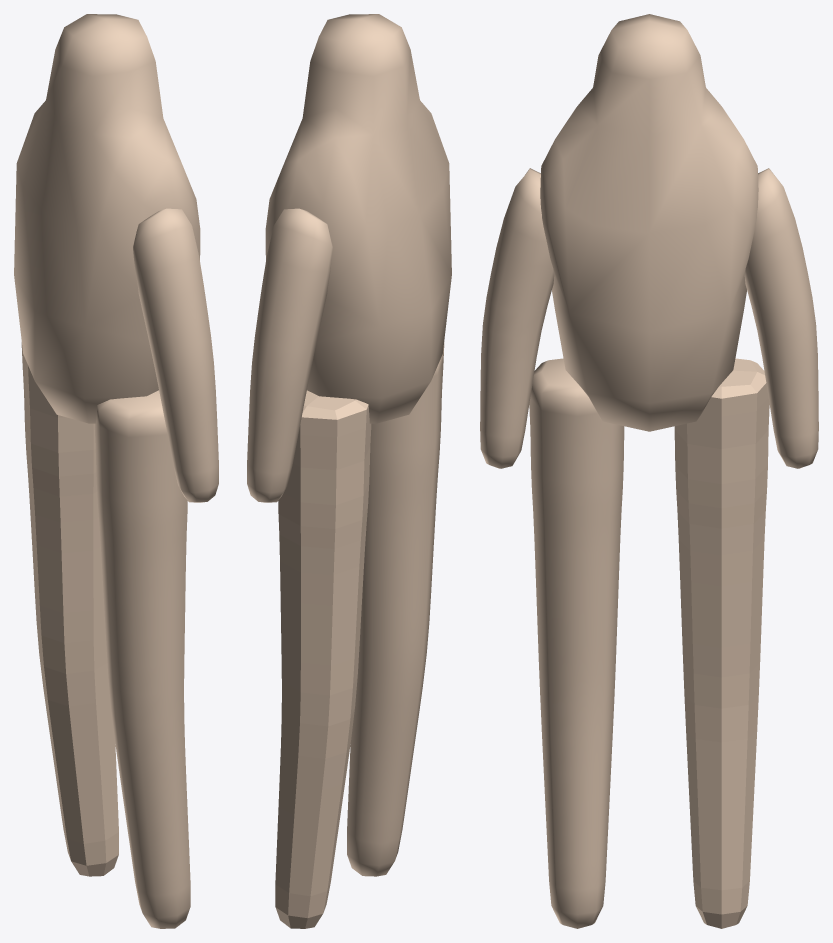
The model's file is human.glb.
3 renders of one model, left to right at view 1: azimuth 30°, elevation 25°; view 2: azimuth 150°, elevation 25°; view 3: azimuth 270°, elevation 25°, orthographic.
Parts seen in each view (by area): view 1: Human.001, Leg0, Leg1; view 2: Human.001, Leg1, Leg0; view 3: Human.001, Leg0, Leg1.
Part boxes in pixels (x1,y1,x2,y2): Human.001: (14,14,218,502); Leg0: (94,390,190,928); Leg1: (21,342,118,876); Human.001: (247,14,451,502); Leg1: (275,390,371,928); Leg0: (347,342,444,876); Human.001: (480,14,818,468); Leg0: (529,358,624,928); Leg1: (674,358,769,928).
Bounding box in the file's own units: 0.2751 × 1.64 × 0.5636.
